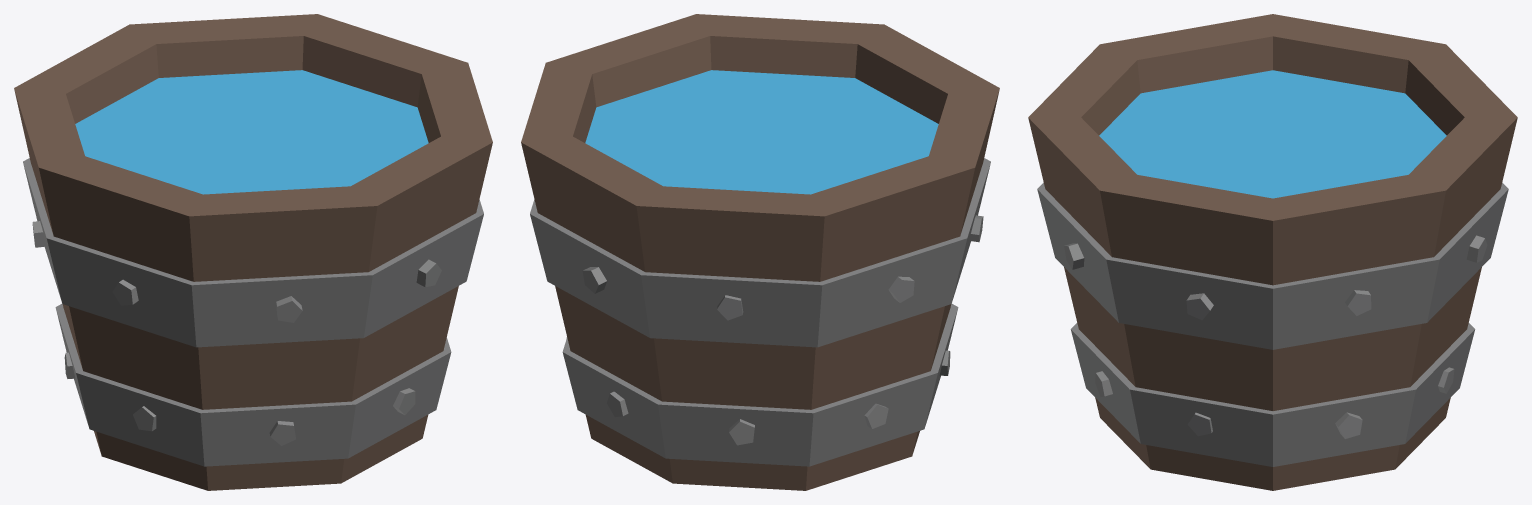
File: Bucket_Full_Greybox.fbx
3 views of the same model, side by side, from view 1: azimuth 30°, elevation 25°; view 2: azimuth 150°, elevation 25°; view 3: azimuth 270°, elevation 25° (orthographic).
Parts seen in each view (by area): view 1: Pail, Plane_Full; view 2: Pail, Plane_Full; view 3: Pail, Plane_Full.
Part boxes in pixels (x1,y1,x2,y2): Pail: (14, 14, 492, 490); Plane_Full: (75, 70, 428, 194); Pail: (521, 14, 999, 490); Plane_Full: (585, 70, 938, 194); Pail: (1028, 14, 1517, 490); Plane_Full: (1099, 70, 1446, 198).
Size of the model in its own units: 0.9898 by 0.6701 by 0.9898.
